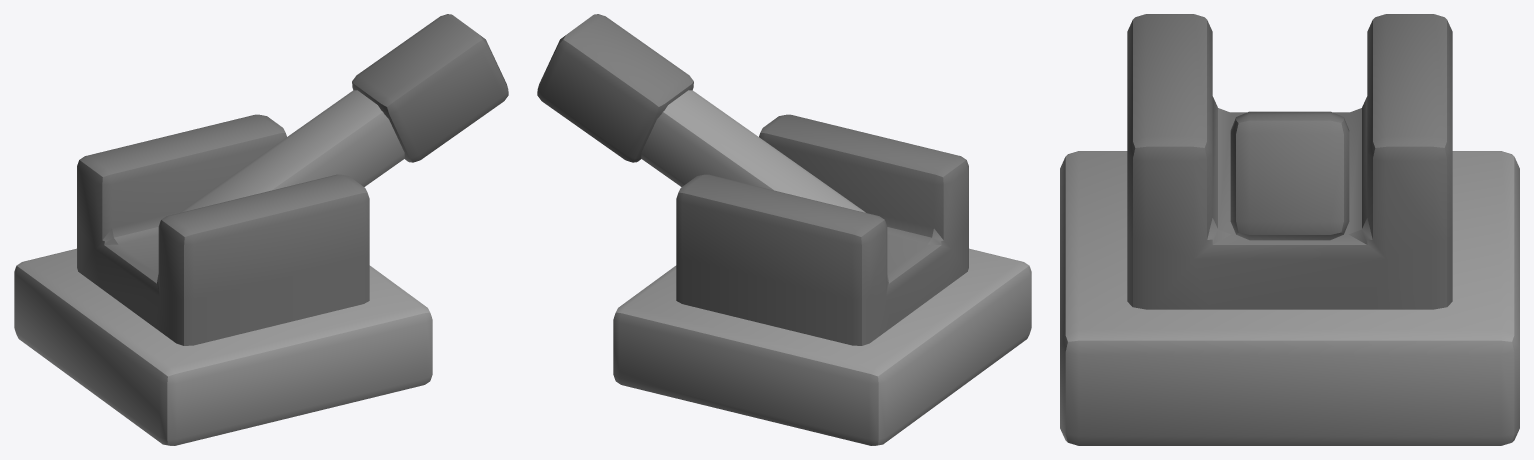
Rendered from LeverRight.obj.
3 renders of one model, left to right at view 1: azimuth 30°, elevation 25°; view 2: azimuth 150°, elevation 25°; view 3: azimuth 270°, elevation 25°, orthographic. The views are drawn at different scales.
Parts seen in each view (by area): view 1: Lever_Right_Cube.473; view 2: Lever_Right_Cube.473; view 3: Lever_Right_Cube.473.
Part boxes in pixels (x1=…): Lever_Right_Cube.473: x1=14, y1=14, x2=508, y2=445; Lever_Right_Cube.473: x1=537, y1=14, x2=1031, y2=445; Lever_Right_Cube.473: x1=1060, y1=14, x2=1519, y2=445.
Size of the model in its own units: 1.48 by 0.9729 by 0.9917.
